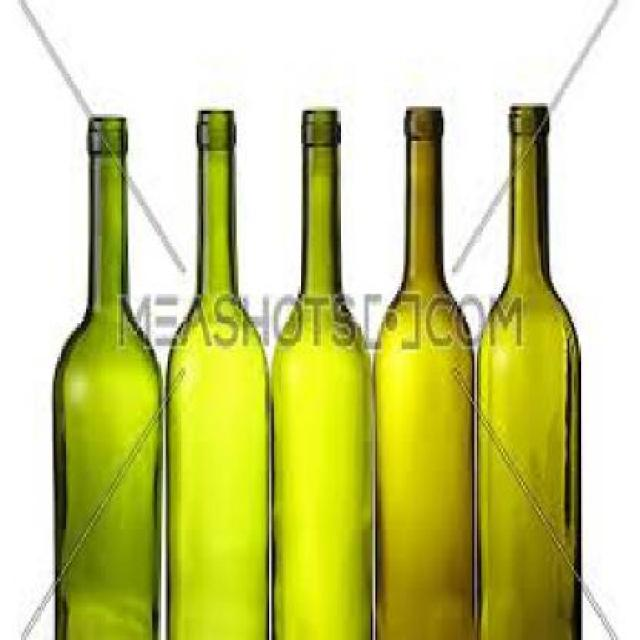kaca: (50, 114, 162, 637), (474, 100, 578, 637), (163, 106, 268, 637), (371, 100, 474, 637), (269, 106, 369, 637)
